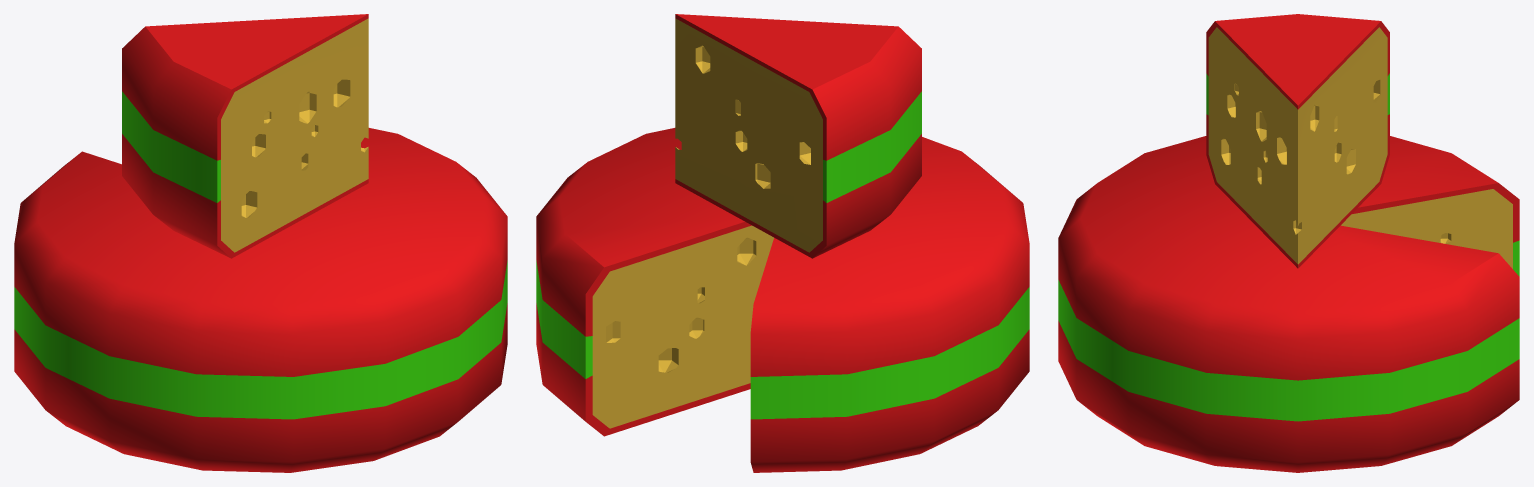
File: cheesepoint.glb
3 renders of one model, left to right at view 1: azimuth 30°, elevation 25°; view 2: azimuth 150°, elevation 25°; view 3: azimuth 270°, elevation 25°, orthographic. The views are drawn at different scales.
Parts seen in each view (by area): view 1: primary, secondary, 1.006; view 2: primary, 1.006, secondary; view 3: primary, 1.006, secondary.
Boxes of the visible parts, left/top/right/bottom form: primary: left=14, top=14, right=507, bottom=472; secondary: left=14, top=91, right=507, bottom=419; 1.006: left=221, top=18, right=368, bottom=252; primary: left=536, top=14, right=1029, bottom=472; 1.006: left=592, top=18, right=822, bottom=428; secondary: left=536, top=91, right=1029, bottom=419; primary: left=1058, top=14, right=1519, bottom=472; 1.006: left=1208, top=27, right=1512, bottom=268; secondary: left=1058, top=73, right=1519, bottom=421.
Bounding box in the file's own units: 0.4 × 0.3 × 0.3848.
